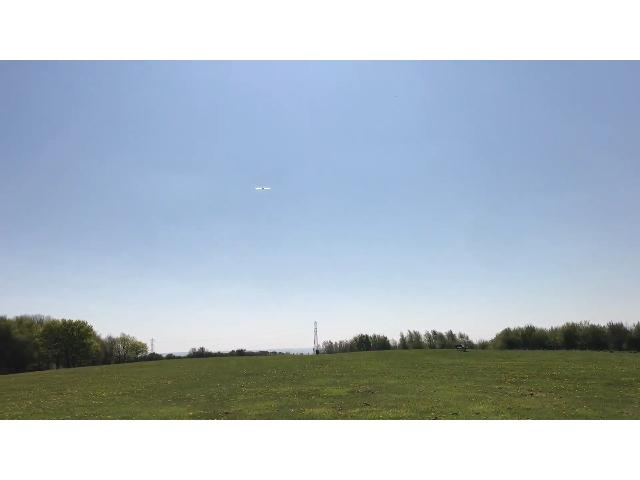Anti-Drone: (246, 179, 290, 205)
